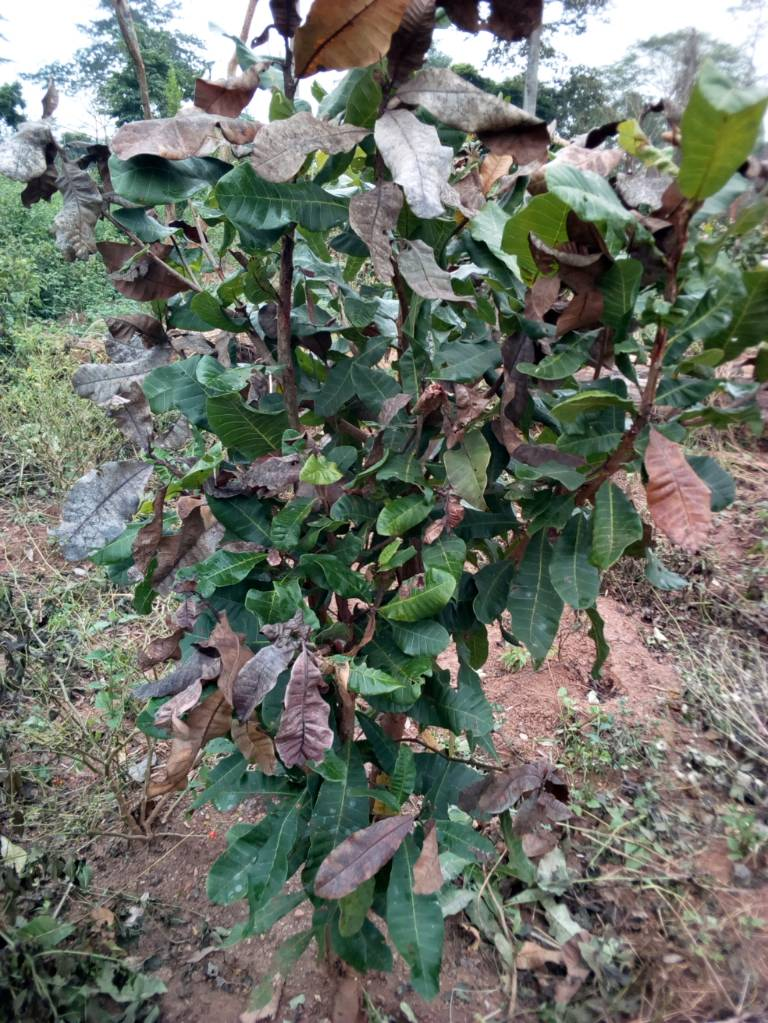Die-black: (296, 799, 425, 924), (409, 63, 559, 152), (52, 441, 163, 561), (274, 1, 433, 82), (368, 110, 468, 227), (524, 224, 618, 346), (240, 104, 368, 188), (102, 103, 257, 167), (279, 655, 350, 788), (88, 226, 188, 316), (52, 334, 163, 415), (469, 752, 588, 822), (343, 177, 413, 281), (222, 635, 296, 732), (395, 234, 475, 314)
